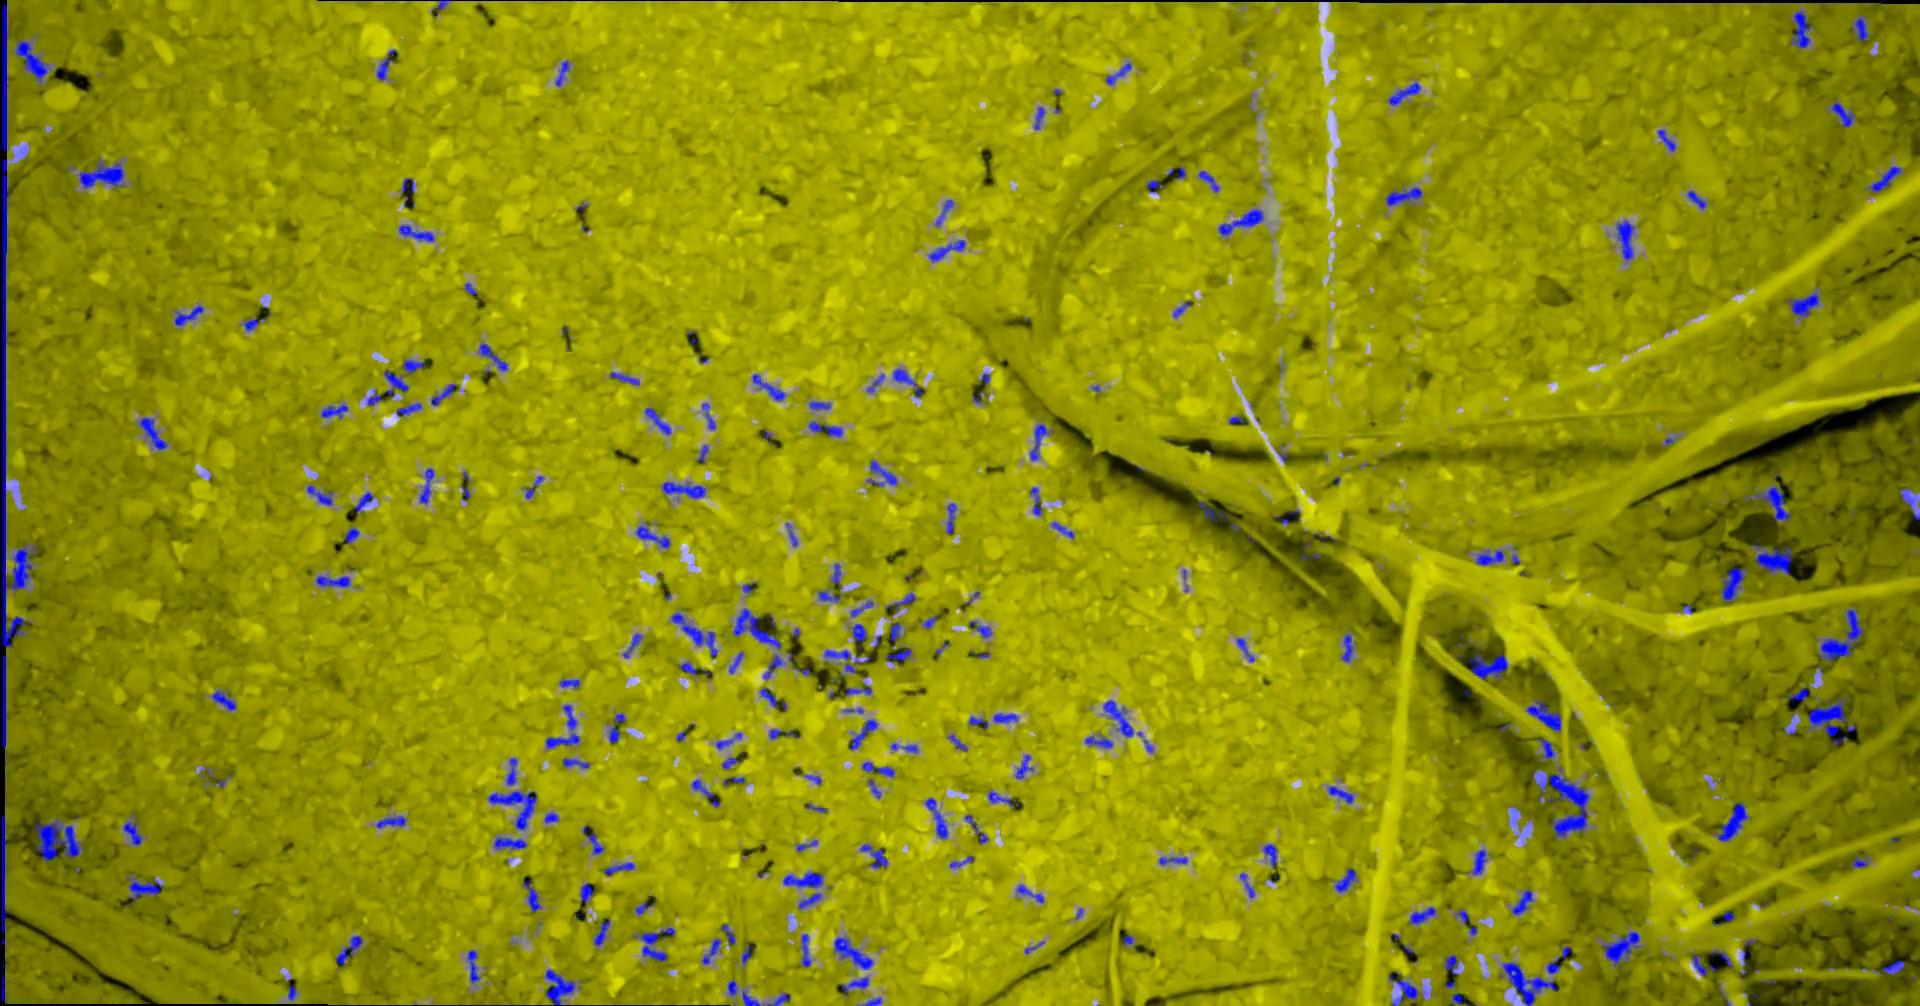ant: (1501, 962, 1556, 1005), (1818, 608, 1863, 661), (670, 612, 717, 658), (1806, 695, 1848, 744), (488, 790, 536, 829), (733, 608, 780, 648), (1743, 483, 1789, 521), (545, 704, 579, 748), (1601, 931, 1639, 970), (1751, 539, 1790, 575), (1102, 699, 1142, 735), (634, 927, 674, 962), (15, 39, 47, 81), (1716, 801, 1749, 841), (833, 936, 872, 969), (77, 160, 123, 188), (1218, 208, 1263, 236), (0, 3, 8, 151), (543, 969, 575, 1005), (1465, 653, 1507, 680), (0, 654, 10, 760), (1526, 699, 1559, 730), (1388, 970, 1418, 1005), (138, 417, 168, 450), (924, 796, 947, 838), (127, 873, 161, 901), (1719, 567, 1745, 602), (891, 368, 922, 398), (848, 719, 877, 749), (0, 815, 6, 951), (635, 523, 670, 547), (752, 373, 783, 400), (1785, 292, 1818, 318), (1867, 166, 1901, 191), (742, 988, 790, 1005), (928, 239, 965, 260), (691, 779, 719, 807), (335, 935, 362, 964), (866, 460, 897, 485), (1790, 10, 1811, 47), (479, 343, 507, 370), (644, 406, 670, 434), (1388, 83, 1420, 105), (823, 649, 855, 672), (1617, 220, 1634, 260), (662, 481, 705, 498), (858, 843, 888, 868), (1029, 423, 1048, 460), (1385, 185, 1421, 205), (1545, 945, 1570, 973), (1898, 486, 1919, 520), (964, 814, 987, 843), (383, 370, 408, 396), (1831, 99, 1854, 127), (397, 224, 433, 241), (885, 592, 916, 612), (1105, 62, 1131, 85), (522, 879, 541, 911), (582, 826, 603, 854), (782, 871, 822, 887), (376, 50, 396, 79), (174, 305, 203, 325), (1197, 500, 1227, 521), (808, 420, 842, 437), (418, 467, 433, 504), (1511, 889, 1533, 915), (841, 976, 869, 995), (430, 384, 455, 405), (1691, 954, 1716, 976), (306, 485, 331, 506), (211, 690, 236, 710), (1465, 848, 1486, 874), (1455, 909, 1476, 935), (701, 937, 720, 964), (608, 713, 625, 743), (861, 761, 894, 776), (622, 633, 643, 657), (762, 654, 782, 678), (122, 821, 142, 845), (1335, 868, 1355, 892), (1851, 15, 1870, 41), (1872, 959, 1903, 974), (935, 199, 952, 226), (715, 732, 742, 749), (1016, 884, 1043, 902), (1476, 549, 1503, 565), (1236, 636, 1255, 661), (1327, 785, 1352, 803), (1410, 906, 1435, 923), (593, 918, 610, 945), (524, 475, 543, 498), (1537, 737, 1554, 761), (1015, 754, 1032, 779), (554, 58, 569, 86), (987, 791, 1015, 807), (493, 836, 526, 848), (466, 950, 479, 983), (1197, 170, 1218, 191), (610, 371, 639, 385), (315, 575, 350, 587), (851, 622, 866, 649), (797, 893, 822, 909), (701, 401, 715, 429), (396, 401, 422, 417), (354, 492, 373, 512), (375, 815, 405, 828), (1657, 130, 1675, 151), (1051, 521, 1073, 539), (850, 600, 872, 616), (604, 862, 634, 875), (1239, 873, 1255, 897), (1709, 950, 1731, 967), (1029, 486, 1041, 514), (885, 647, 910, 661), (1084, 734, 1112, 747), (968, 621, 990, 636), (1686, 191, 1705, 208), (1172, 300, 1191, 318), (866, 373, 884, 392), (320, 404, 347, 417), (1341, 634, 1354, 661), (759, 687, 776, 708), (800, 934, 810, 967), (728, 652, 743, 673), (1787, 687, 1810, 701), (505, 757, 517, 785), (949, 734, 968, 751), (946, 503, 956, 533), (1443, 954, 1458, 974), (1263, 843, 1276, 868), (949, 855, 973, 868), (844, 683, 871, 695), (403, 359, 424, 373), (720, 923, 734, 944), (1032, 105, 1044, 130), (889, 622, 900, 647), (243, 318, 264, 330), (366, 390, 383, 405), (563, 758, 589, 768), (634, 902, 654, 915), (344, 526, 359, 542), (580, 882, 592, 903), (890, 743, 917, 752), (1145, 179, 1163, 192), (993, 713, 1018, 721), (1158, 856, 1187, 864), (830, 563, 841, 584), (818, 591, 839, 601), (696, 445, 707, 464), (968, 716, 987, 728), (869, 779, 880, 798), (679, 662, 696, 674), (1850, 855, 1867, 868), (721, 757, 739, 768), (723, 776, 744, 785), (559, 680, 579, 688), (742, 945, 750, 965), (543, 810, 557, 823), (1449, 992, 1463, 1005), (401, 178, 413, 193), (808, 401, 830, 409), (860, 997, 881, 1005), (0, 973, 5, 1005), (287, 984, 296, 1000), (728, 981, 737, 995)
